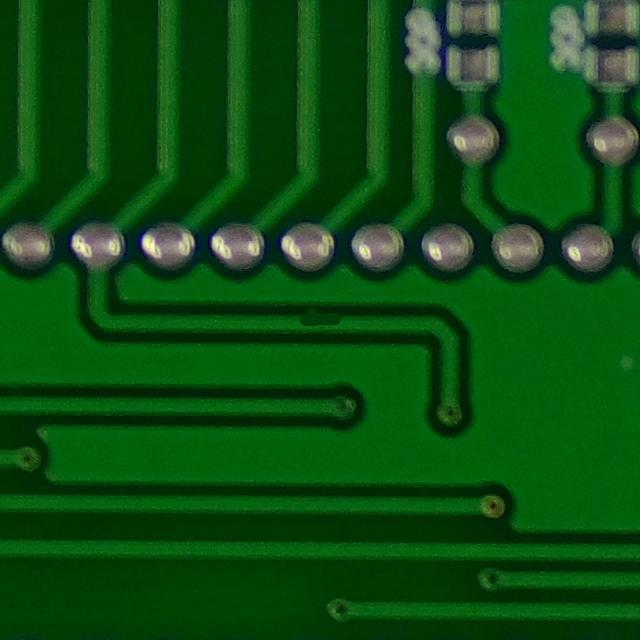mouse_bite: (287, 301, 353, 340)
